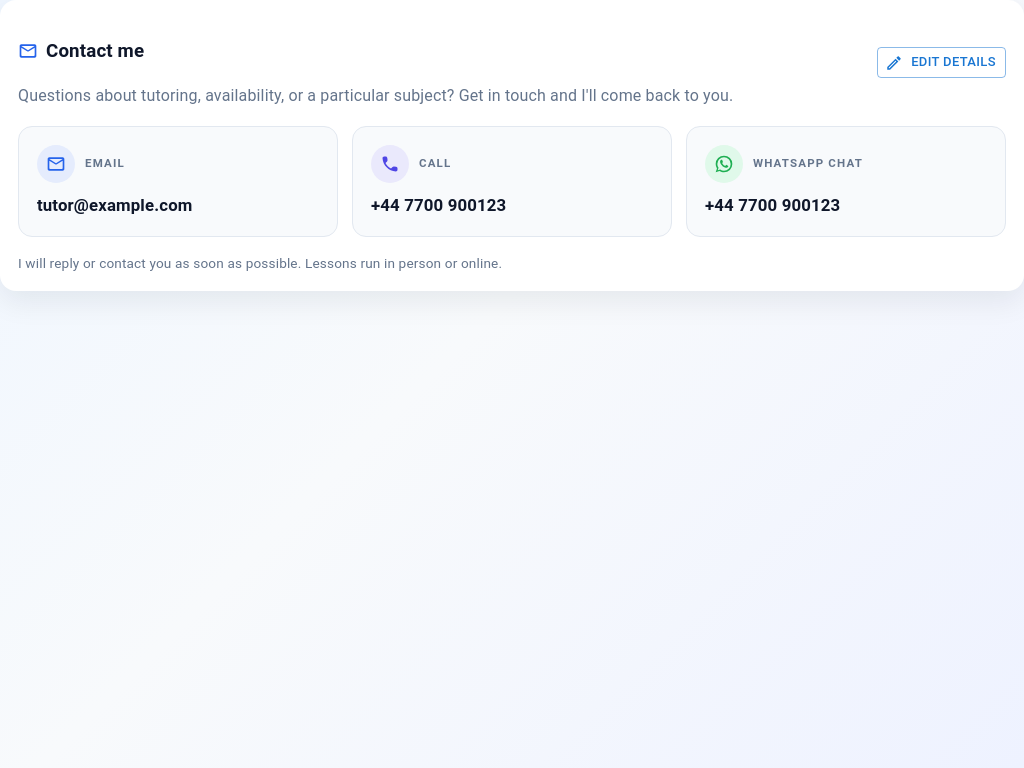
Test: ContactView › lets the teacher edit and save the details
Click the button "Edit details".
click(942, 63)  # box [877,47,1006,78]
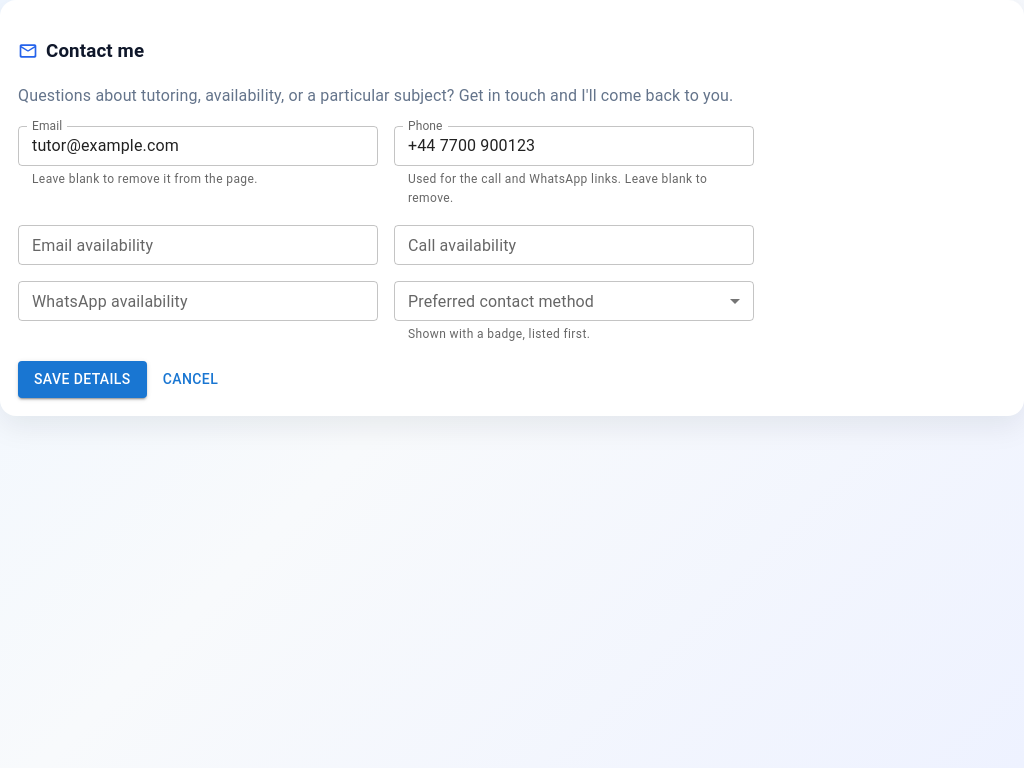
Check: the field labelled "Email" holds "tutor@example.com"
Replace the text in the field labelled "Email" with "new@example.com" at (198, 146), box [18,126,378,166]
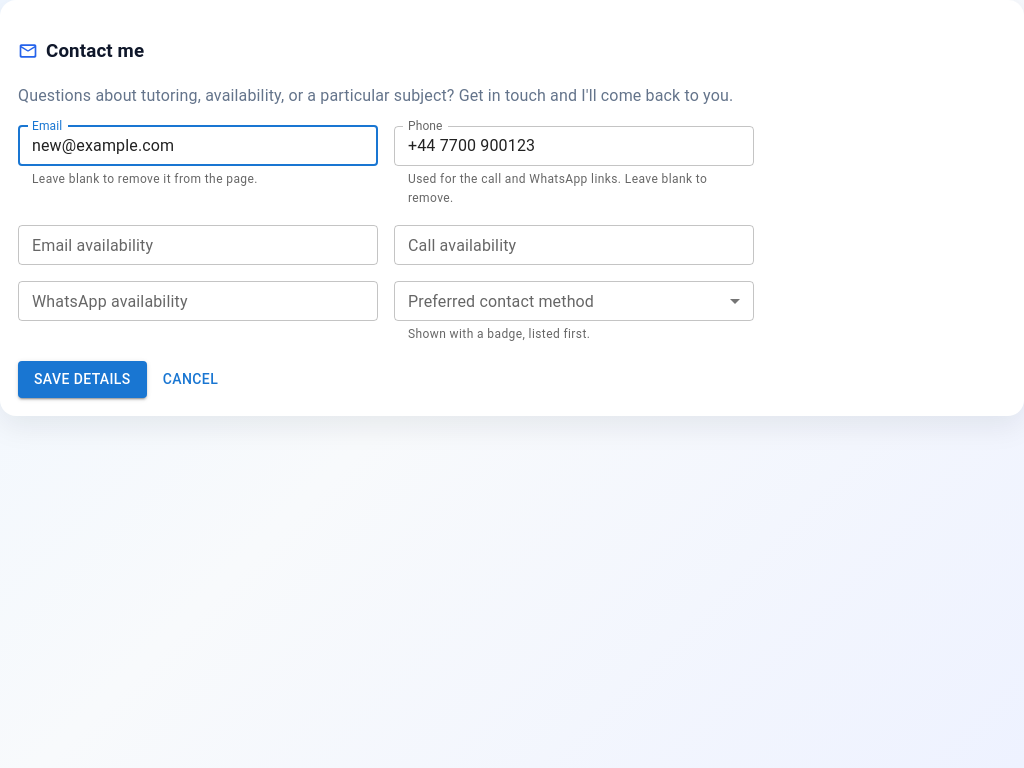
Click the button "Save details".
click(82, 379)  # box [18,361,147,398]
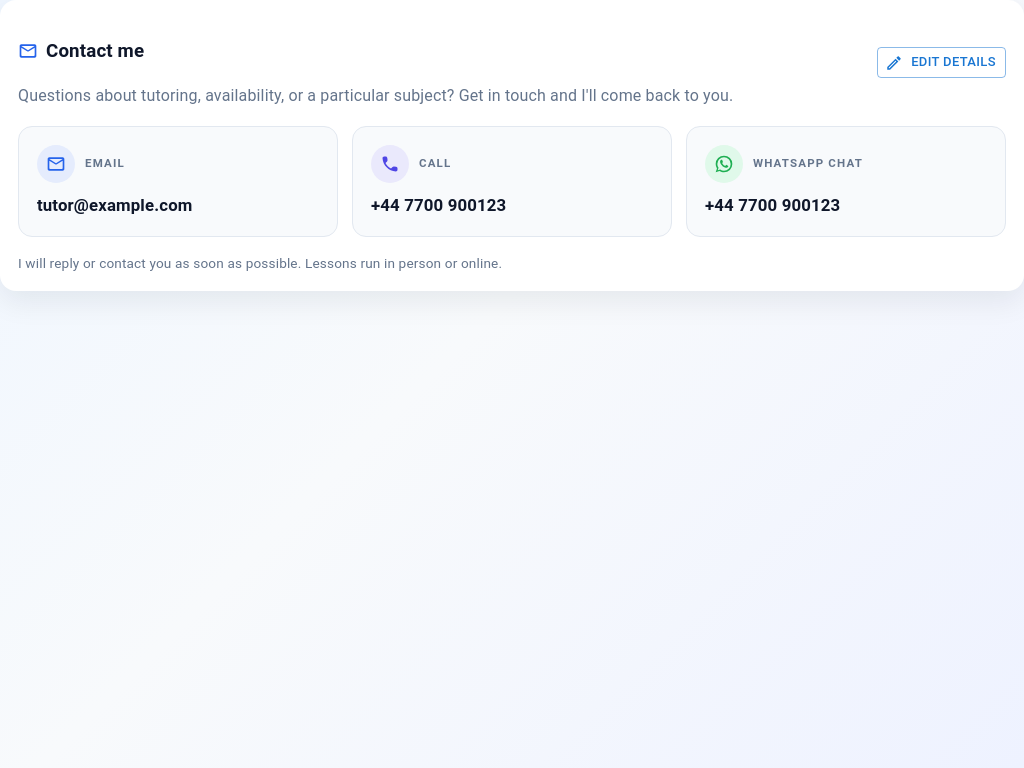
Check: the button "Save details" is gone
